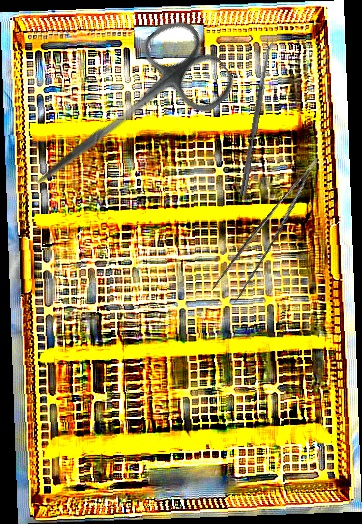Iris Scissors: (9, 10, 242, 225)
Surgical Spoon: (239, 38, 275, 197)
Tissue Forceps: (205, 157, 340, 310)
